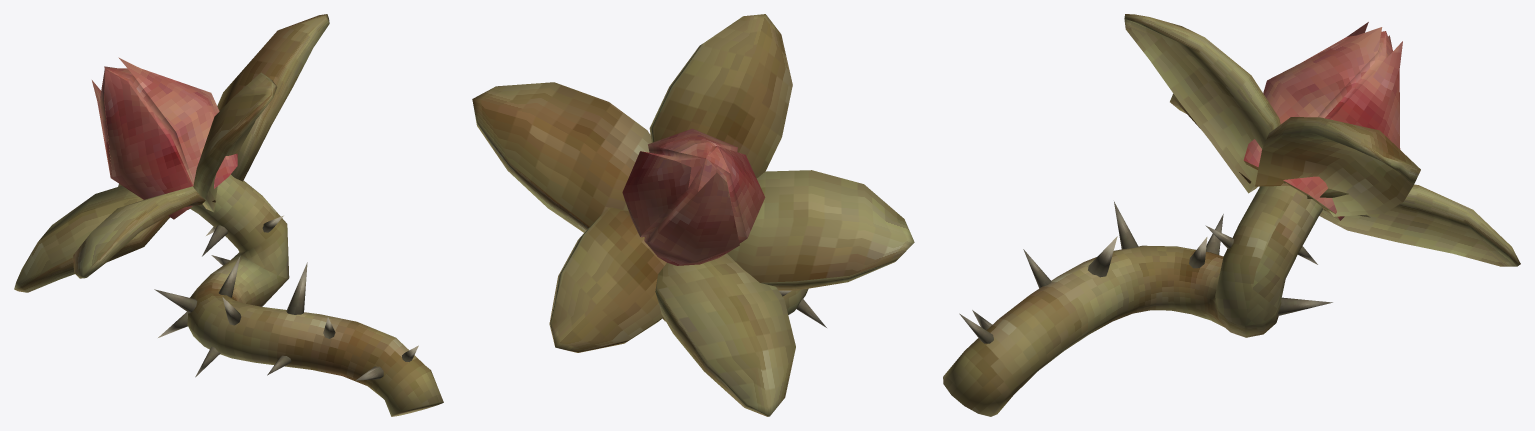
File: Flower.fbx
3 views of the same model, side by side, from view 1: azimuth 30°, elevation 25°; view 2: azimuth 150°, elevation 25°; view 3: azimuth 270°, elevation 25° (orthographic). The views are drawn at different scales.
Parts seen in each view (by area): view 1: NurbsPath, Cylinder.001, Cube.004, Cube.007, Cube.008, Cube.009, Cone.002; view 2: Cube.007, Cube.009, Cube.004, Cylinder.001, Cube.008, Cube.005; view 3: NurbsPath, Cylinder.001, Cube.008, Cube.007, Cube.005, Cone.002, Cone.010.
Part boxes in pixels (x1,y1,x2,y2): NurbsPath: (187,174,443,416); Cylinder.001: (92,57,237,219); Cube.004: (14,186,169,292); Cube.007: (217,14,329,181); Cube.008: (193,72,277,212); Cube.009: (73,186,215,278); Cone.002: (286,262,307,314); Cube.007: (472,82,651,232); Cube.009: (727,170,914,290); Cube.004: (655,253,795,416); Cylinder.001: (622,128,765,265); Cube.008: (649,14,792,178); Cube.005: (549,207,666,352); NurbsPath: (943,185,1323,416); Cylinder.001: (1243,22,1402,220); Cube.008: (1124,14,1285,193); Cube.007: (1255,117,1420,216); Cube.005: (1307,184,1520,266); Cone.002: (1088,236,1117,277); Cone.010: (1278,297,1332,315).
Size of the model in its own units: 1086 by 947 by 1399.
